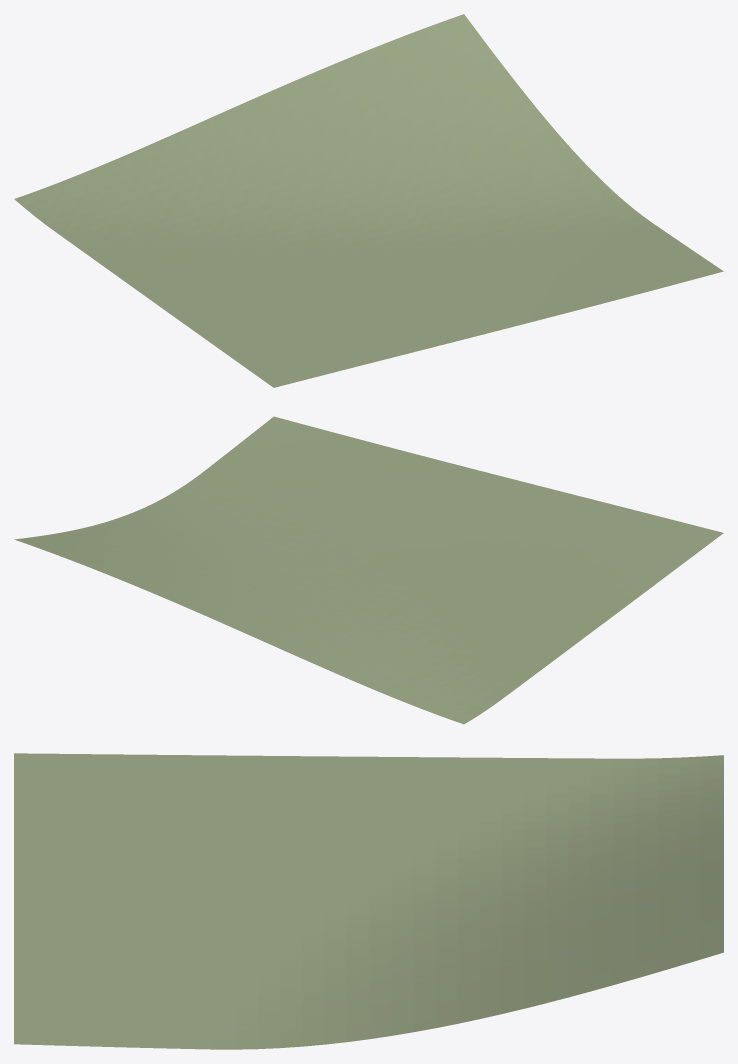
The model's file is desert-19-21.glb.
3 views of the same model, one above another, from view 1: azimuth 30°, elevation 25°; view 2: azimuth 150°, elevation 25°; view 3: azimuth 270°, elevation 25° (orthographic). The views are drawn at different scales.
Parts seen in each view (by area): view 1: desert-19-21; view 2: desert-19-21; view 3: desert-19-21.
Part boxes in pixels (box(x1,y1,x2,y2)): desert-19-21: box(14, 14, 723, 387); desert-19-21: box(14, 416, 723, 724); desert-19-21: box(14, 753, 723, 1049).
Size of the model in its own units: 512 by 84.48 by 512.
